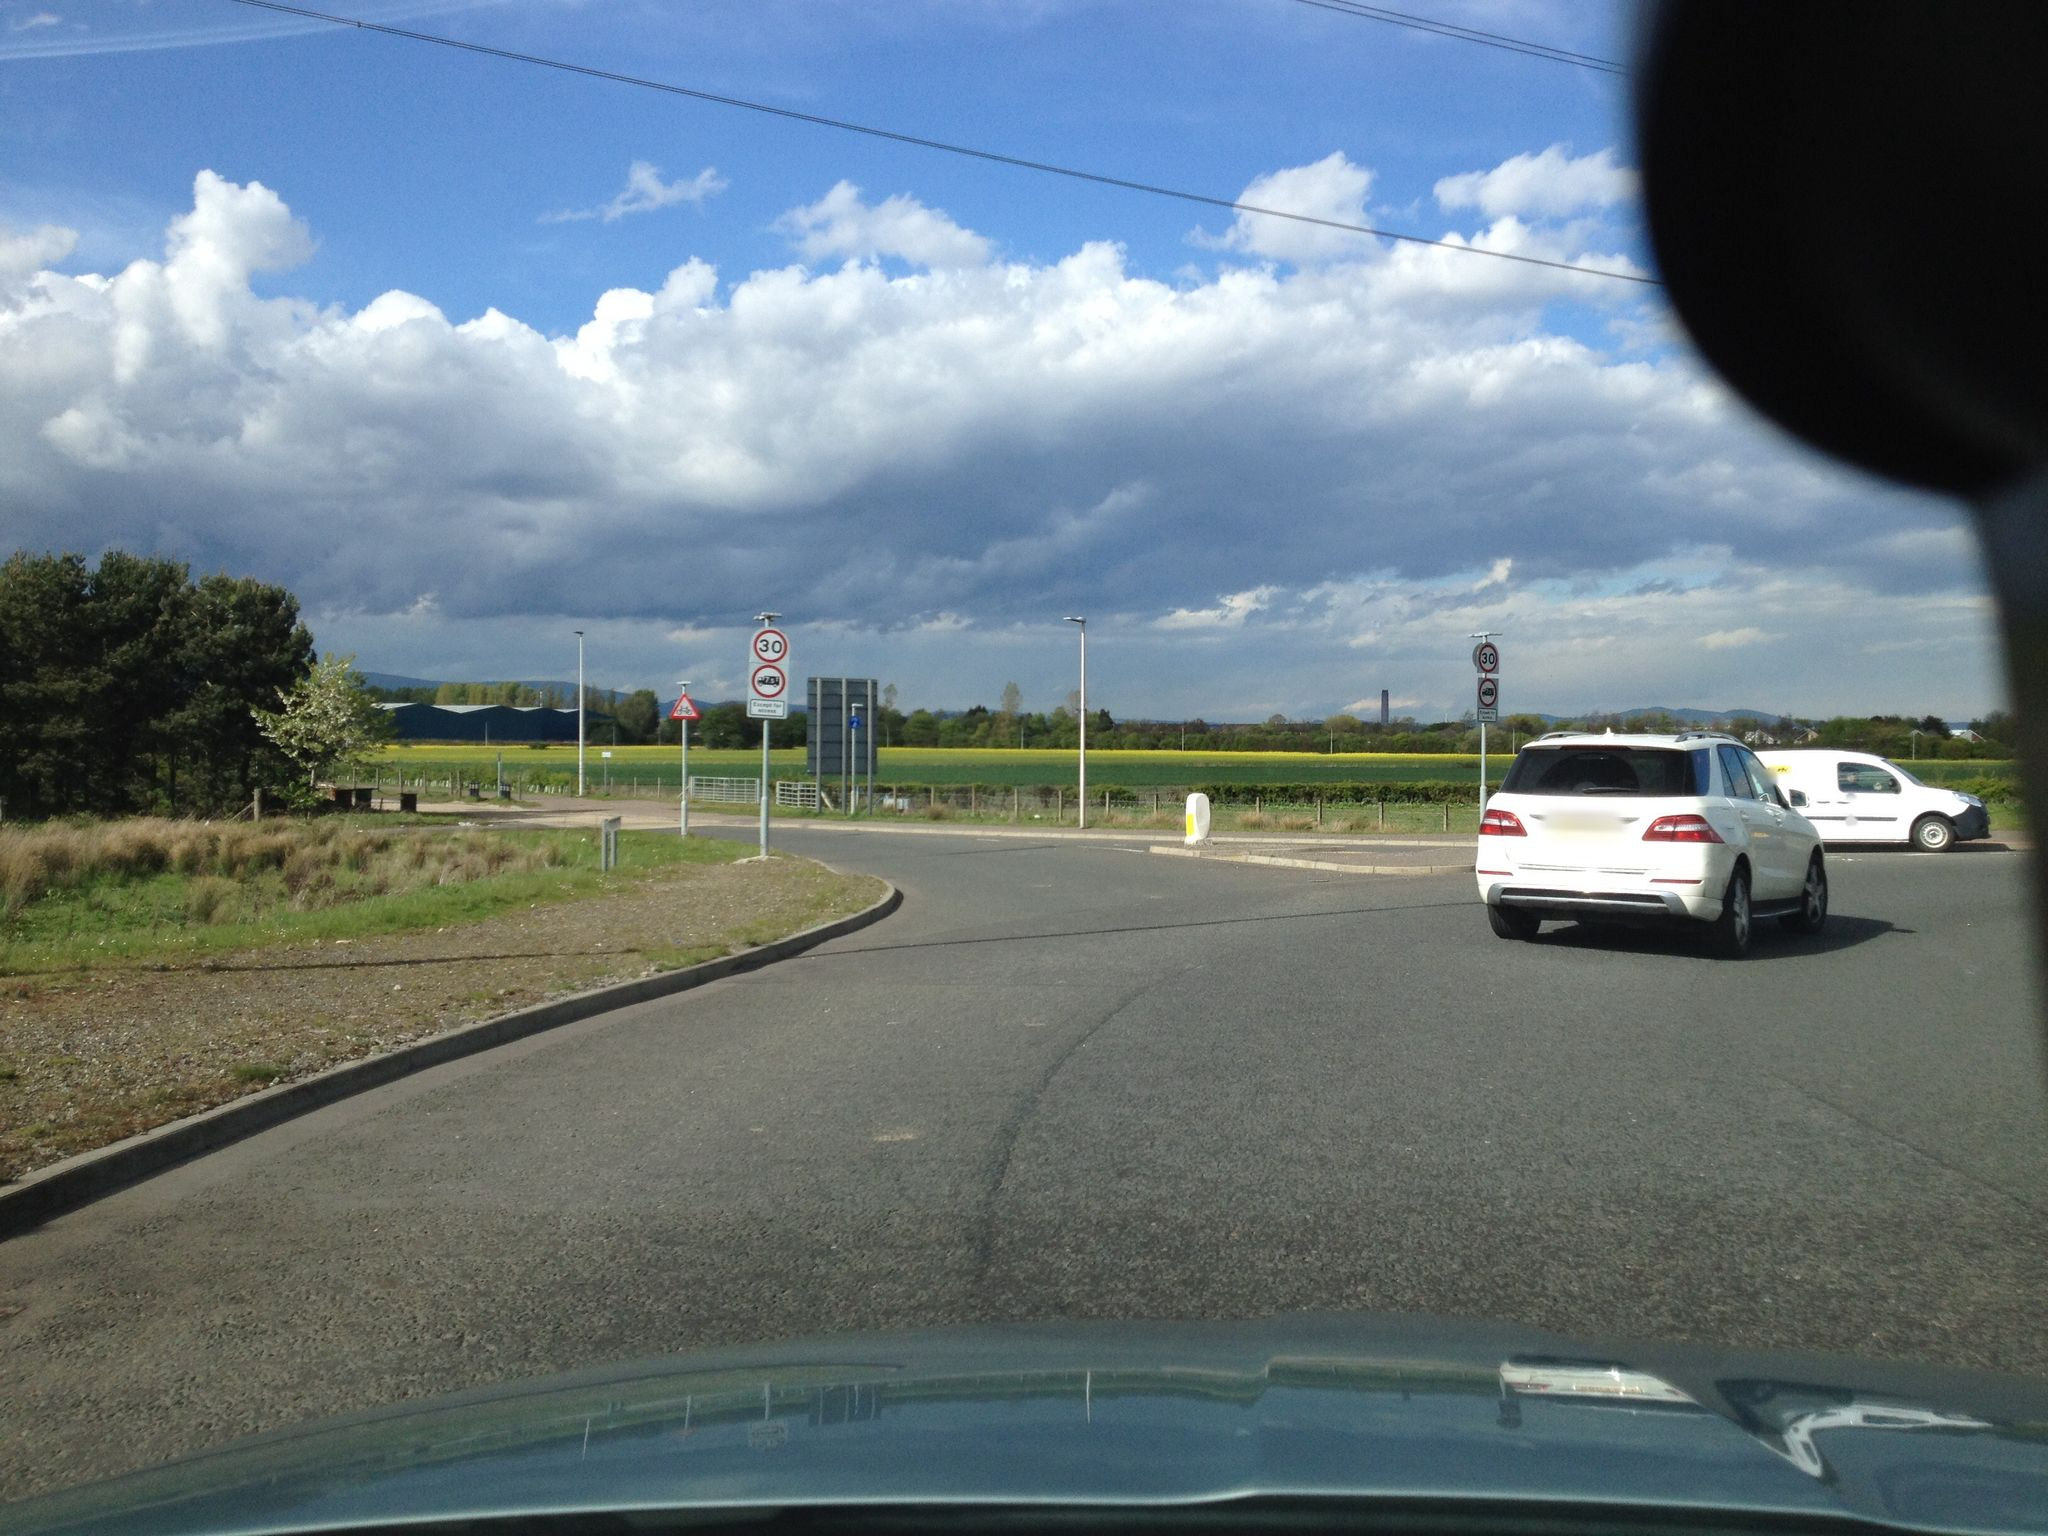car: (1474, 728, 1830, 954), (1751, 749, 1992, 852)
